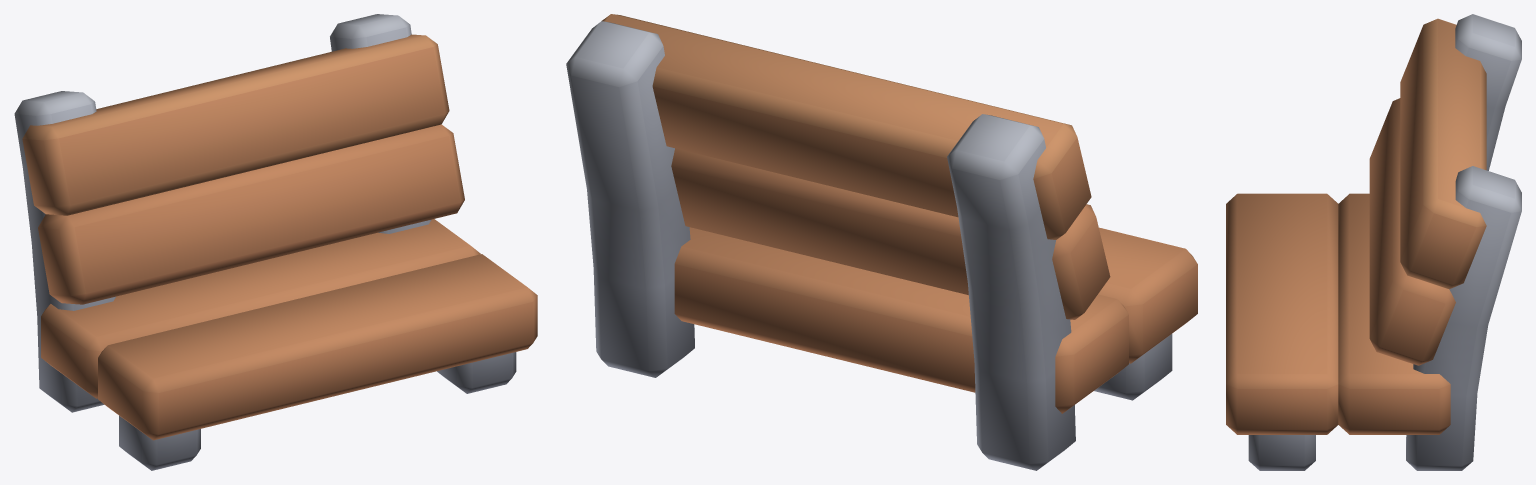
The model's file is bench.fbx.
3 views of the same model, side by side, from view 1: azimuth 30°, elevation 25°; view 2: azimuth 150°, elevation 25°; view 3: azimuth 270°, elevation 25° (orthographic). The views are drawn at different scales.
Parts seen in each view (by area): view 1: bench; view 2: bench; view 3: bench.
Boxes of the visible parts, x1,y1,x2,y2 form: bench: (14, 14, 537, 470); bench: (566, 14, 1197, 470); bench: (1226, 14, 1521, 470).
Bounding box in the file's own units: 2 × 1.41 × 1.32.
